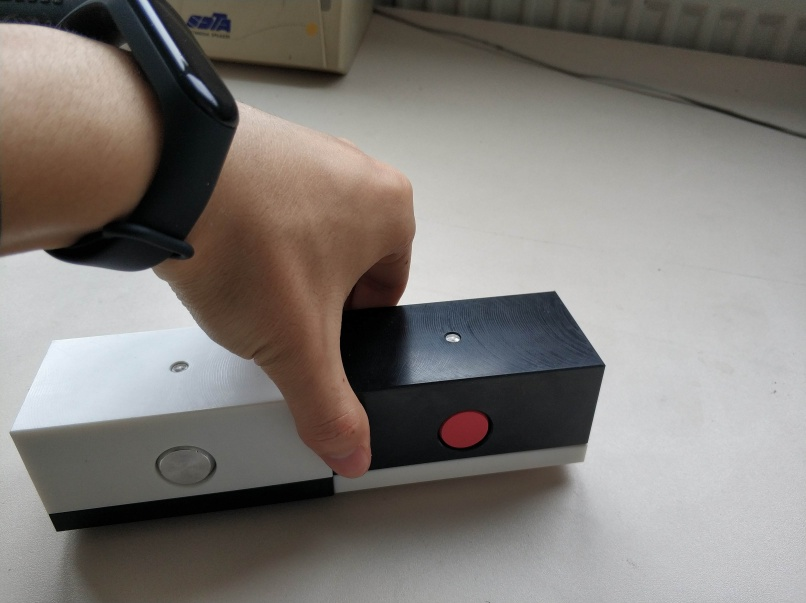black+white+silver: (8, 324, 337, 536)
white+black+red: (336, 288, 607, 496)
